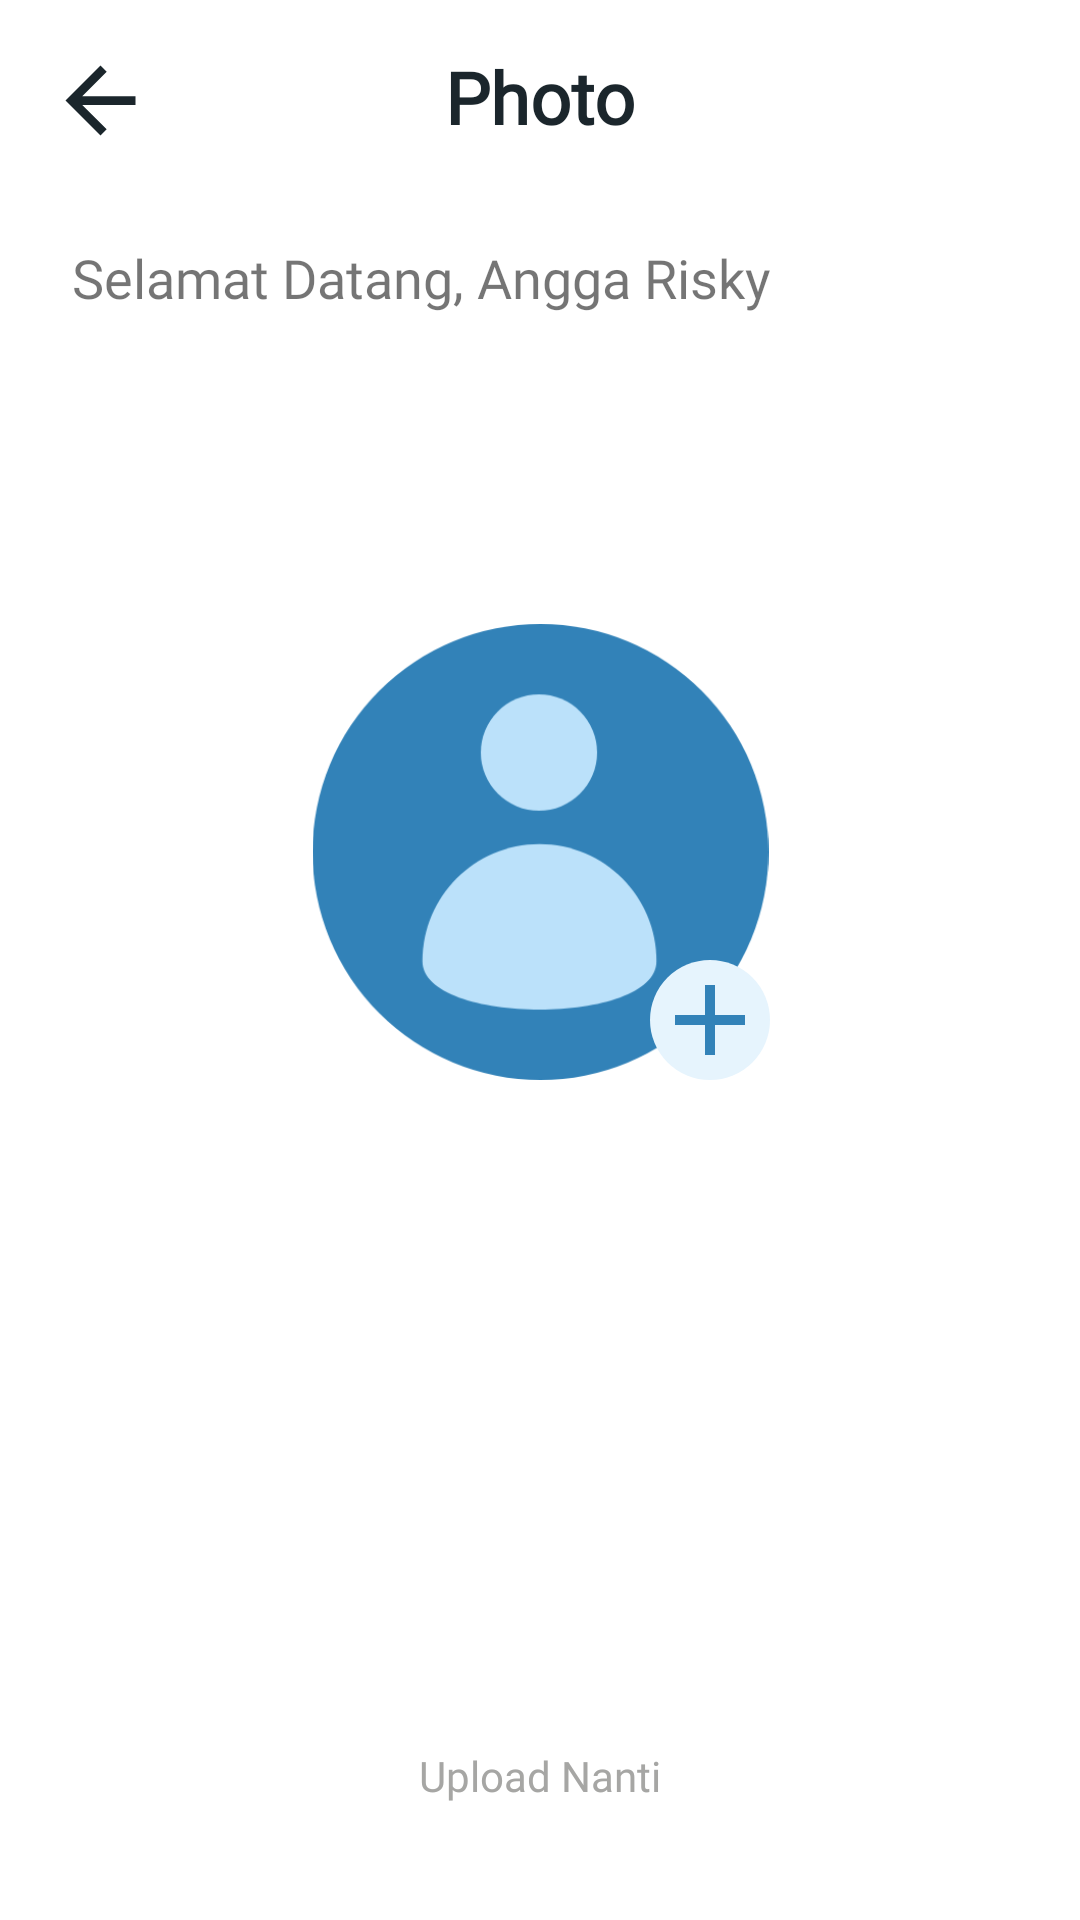

Icons on this 1080 x 1920 Android screen, each with the point to tap as point (x, y):
arrow back: point (100, 100)
